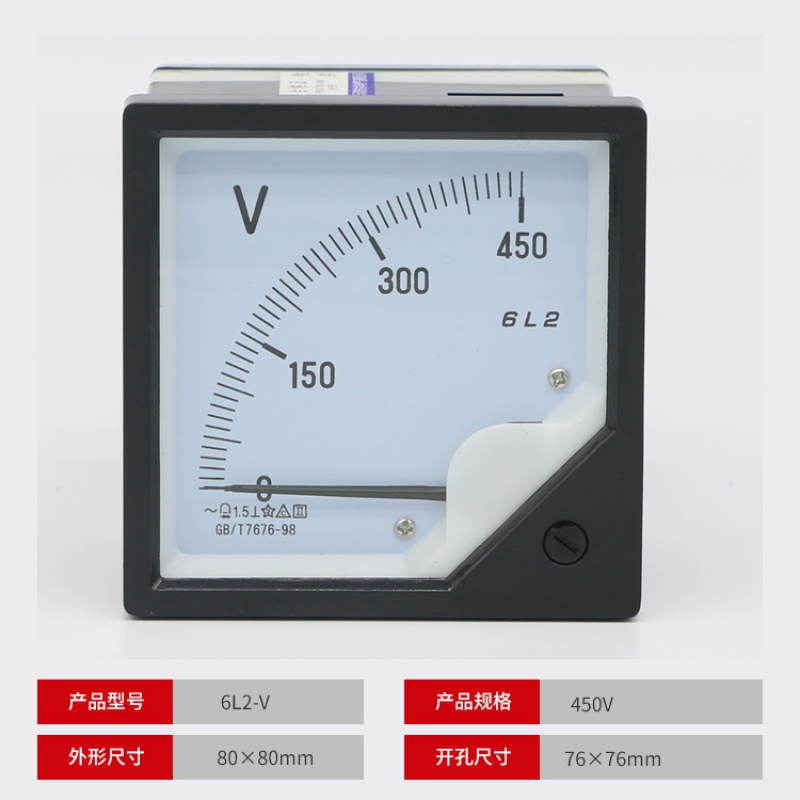pointer: (146, 117, 612, 596)
